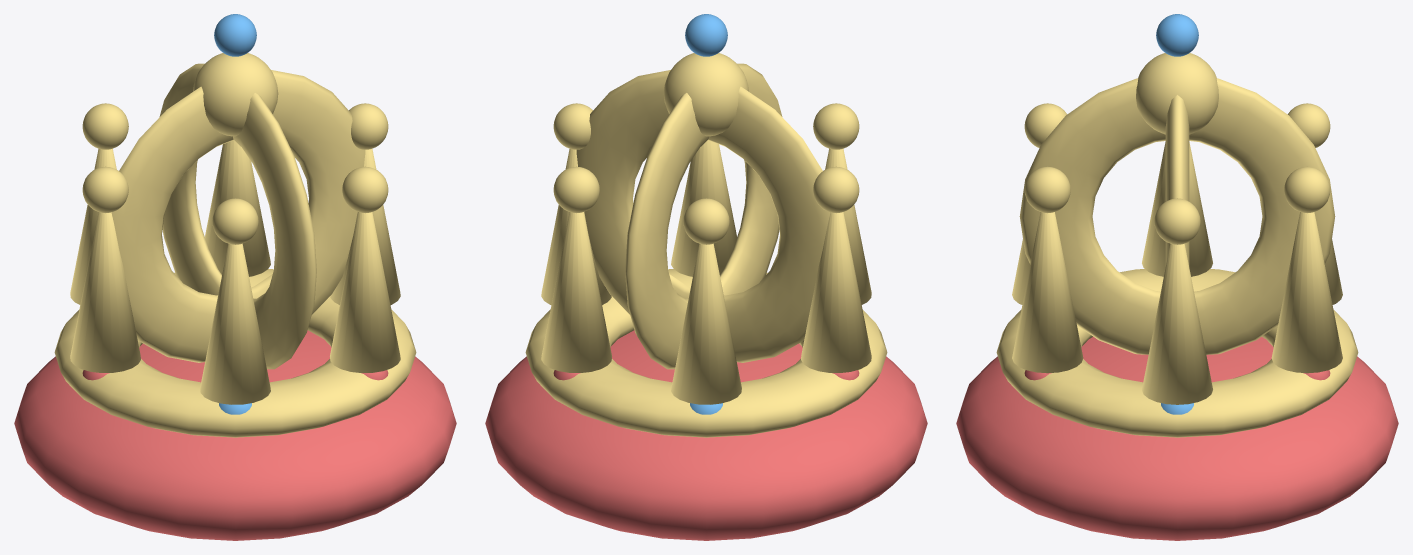
The model's file is keepsake_crown.glb.
3 renders of one model, left to right at view 1: azimuth 30°, elevation 25°; view 2: azimuth 150°, elevation 25°; view 3: azimuth 270°, elevation 25°, orthographic.
Visible parts, largest first — view 1: Keepsake_Crown; view 2: Keepsake_Crown; view 3: Keepsake_Crown.
Part boxes in pixels (bbox=[...]): Keepsake_Crown: bbox=[14, 14, 456, 540]; Keepsake_Crown: bbox=[485, 14, 927, 540]; Keepsake_Crown: bbox=[956, 14, 1398, 540].
Size of the model in its own units: 1.24 by 1.48 by 1.24.
